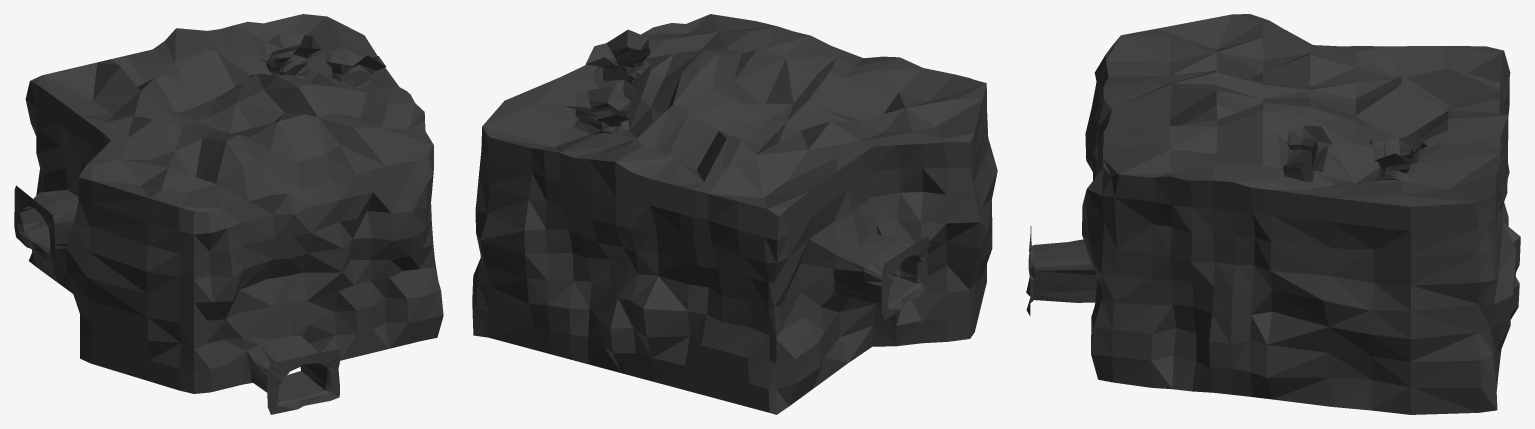
File: Cave_14B.fbx
3 views of the same model, side by side, from view 1: azimuth 30°, elevation 25°; view 2: azimuth 150°, elevation 25°; view 3: azimuth 270°, elevation 25° (orthographic). The views are drawn at different scales.
Parts seen in each view (by area): view 1: polySurface1227; view 2: polySurface1227; view 3: polySurface1227.
Part boxes in pixels (<box>): polySurface1227: <box>14,14,443,414</box>; polySurface1227: <box>472,14,997,414</box>; polySurface1227: <box>1026,14,1520,414</box>.
Bounding box in the file's own units: 45.92 × 26.92 × 46.76.
